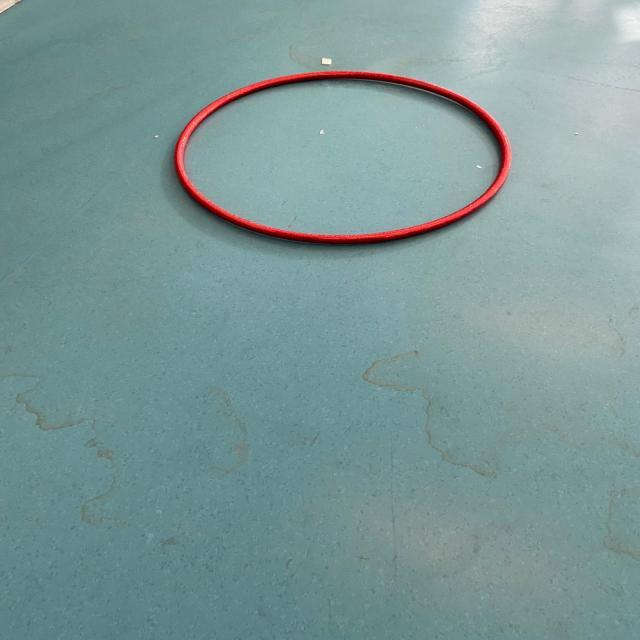Circle: (164, 64, 518, 250)
